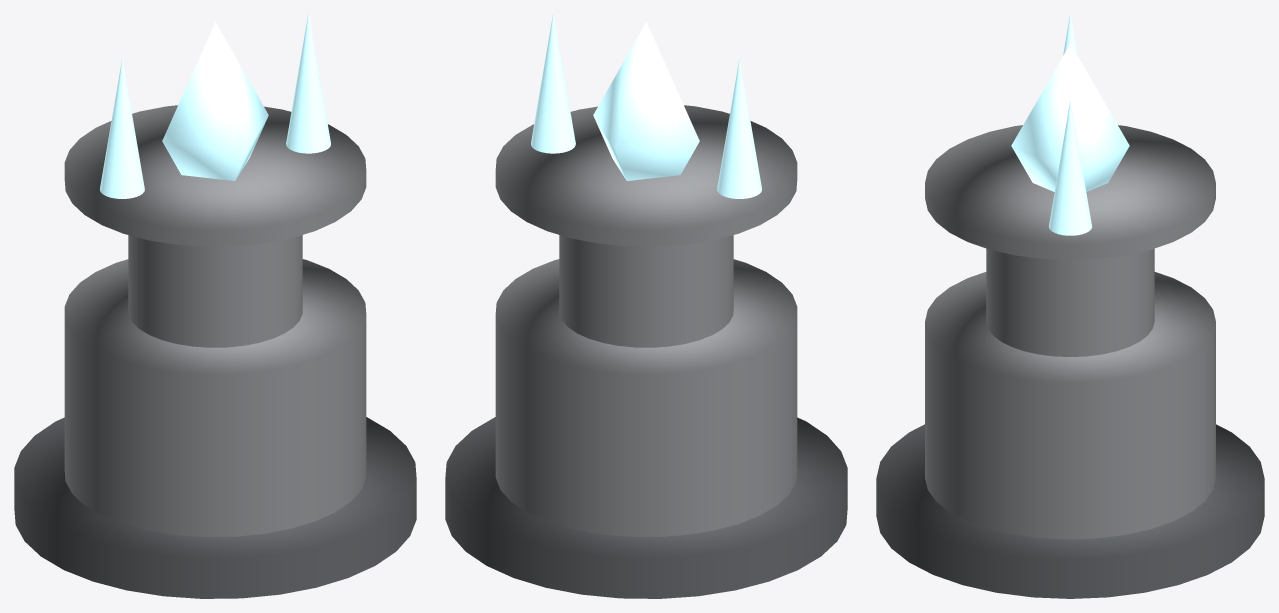
File: ice_l1.glb
3 views of the same model, side by side, from view 1: azimuth 30°, elevation 25°; view 2: azimuth 150°, elevation 25°; view 3: azimuth 270°, elevation 25° (orthographic). The views are drawn at different scales.
Parts seen in each view (by area): view 1: base, footing, spinRing, shaft, spinCrystal, iceShardR, iceShardL; view 2: base, footing, spinRing, shaft, spinCrystal, iceShardR, iceShardL; view 3: base, footing, spinRing, shaft, spinCrystal, iceShardR.
Boxes of the visible parts, x1,y1,x2,y2 form: base: (64,259,366,536); footing: (14,417,416,598); spinRing: (64,105,366,246); shaft: (128,235,302,347); spinCrystal: (162,22,268,180); iceShardR: (286,14,330,153); iceShardL: (100,59,144,198); base: (495,259,797,536); footing: (445,417,847,598); spinRing: (495,105,797,246); shaft: (559,235,733,347); spinCrystal: (593,22,699,180); iceShardR: (531,14,575,153); iceShardL: (717,59,761,198); base: (925,272,1215,539); footing: (876,424,1264,598); spinRing: (925,125,1215,259); shaft: (986,248,1154,356); spinCrystal: (1011,43,1129,191); iceShardR: (1048,101,1092,235).
Size of the model in its own units: 1.8 by 2.42 by 1.8.
